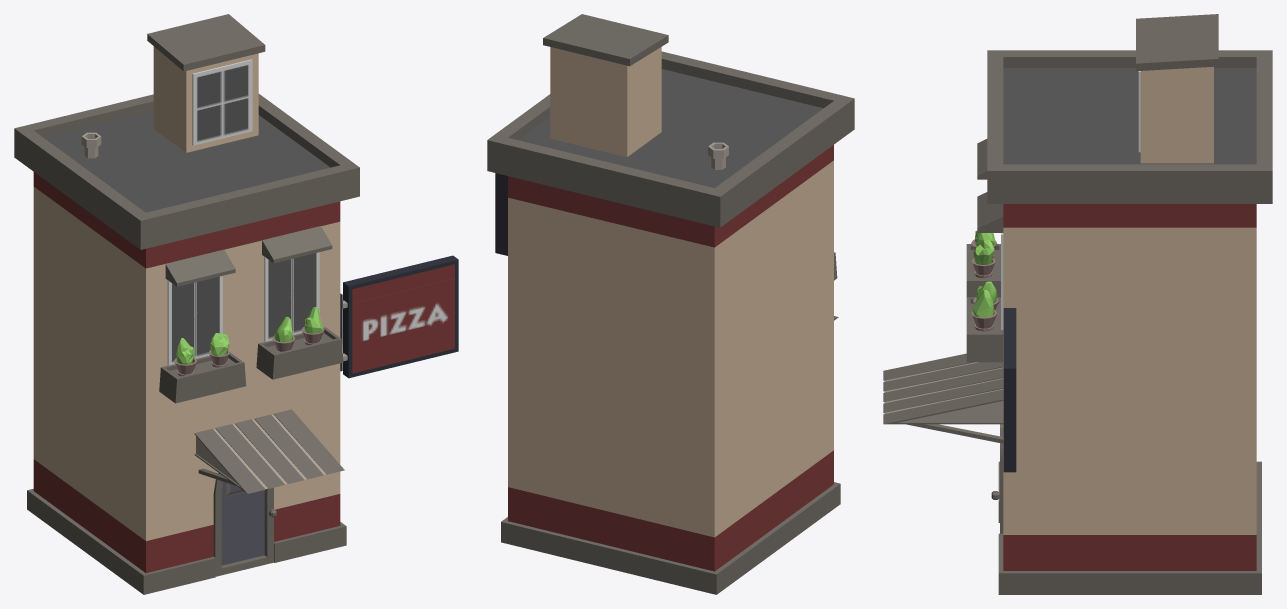
File: miniPizza_color01.fbx
3 views of the same model, side by side, from view 1: azimuth 30°, elevation 25°; view 2: azimuth 150°, elevation 25°; view 3: azimuth 270°, elevation 25° (orthographic). The views are drawn at different scales.
Visible parts, largest first — view 1: miniPizza_color01; view 2: miniPizza_color01; view 3: miniPizza_color01.
Boxes of the visible parts, left/top/right/bottom form: miniPizza_color01: left=14, top=14, right=458, bottom=594; miniPizza_color01: left=487, top=14, right=854, bottom=594; miniPizza_color01: left=883, top=14, right=1272, bottom=594.
Bounding box in the file's own units: 740 × 1012 × 680.
